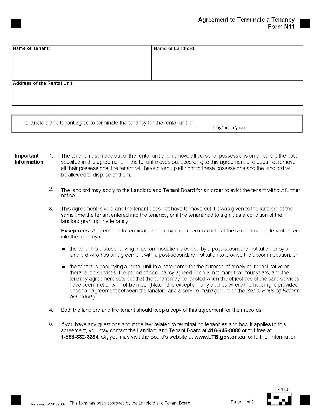textbox: (11, 79, 306, 110), (150, 42, 306, 85), (11, 43, 154, 82)
textline: (197, 116, 262, 127)
